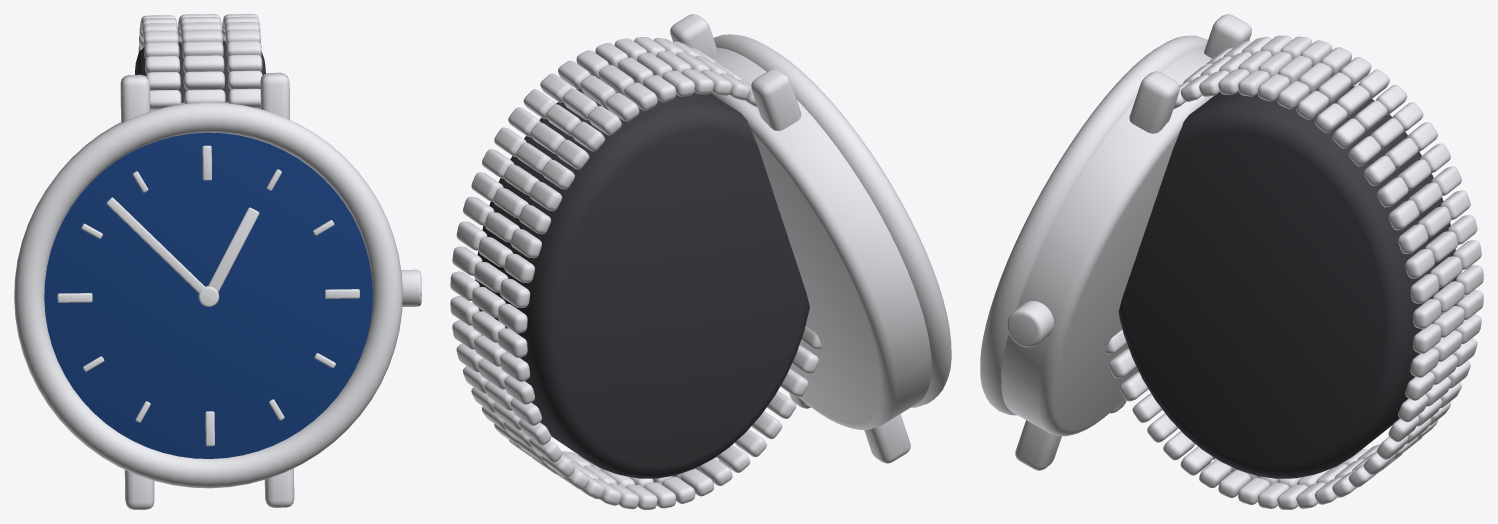
The model's file is reward-steel-watch.glb.
3 views of the same model, side by side, from view 1: azimuth 30°, elevation 25°; view 2: azimuth 150°, elevation 25°; view 3: azimuth 270°, elevation 25° (orthographic). The views are drawn at different scales.
Visible parts, largest first — view 1: dial, bezel, minute, lug.001, lug, hour, lug.003, lug.002, cushion, mid.006, crown, mid.007 (+11 smaller); view 2: cushion, case, bezel, lug.001, lug.003, lug, mid.012, mid.020, side.040, mid.021, side.026, mid.022 (+38 smaller); view 3: cushion, case, bezel, lug, crown, lug.002, lug.001, side.025, side.039, side.041, side.029, side.037 (+27 smaller).
Part boxes in pixels (<box>): dial: <box>44,132,372,458</box>; bezel: <box>14,102,402,488</box>; minute: <box>106,197,205,293</box>; lug.001: <box>120,74,150,123</box>; lug: <box>260,72,290,119</box>; hour: <box>208,207,259,292</box>; lug.003: <box>124,470,154,509</box>; lug.002: <box>264,468,294,507</box>; cushion: <box>135,41,265,109</box>; mid.006: <box>183,71,224,90</box>; crown: <box>401,269,421,306</box>; mid.007: <box>183,55,224,72</box>; cushion: <box>475,78,809,478</box>; case: <box>711,47,931,429</box>; bezel: <box>713,34,951,407</box>; lug.001: <box>751,69,801,130</box>; lug.003: <box>864,414,910,463</box>; lug: <box>670,14,717,57</box>; mid.012: <box>580,75,615,106</box>; mid.020: <box>478,237,513,267</box>; side.040: <box>504,253,534,282</box>; mid.021: <box>474,262,508,292</box>; side.026: <box>588,106,621,135</box>; mid.022: <box>472,286,505,317</box>; cushion: <box>1118,75,1457,478</box>; case: <box>1001,48,1213,436</box>; bezel: <box>980,35,1207,415</box>; lug: <box>1129,71,1179,133</box>; crown: <box>1007,301,1053,347</box>; lug.002: <box>1015,420,1061,470</box>; lug.001: <box>1204,14,1251,58</box>; side.025: <box>1296,90,1328,119</box>; side.039: <box>1398,224,1428,253</box>; side.041: <box>1405,249,1434,278</box>; side.029: <box>1332,118,1364,148</box>; side.037: <box>1388,200,1419,230</box>.
Size of the model in its own units: 2.7 by 2.91 by 3.13.
